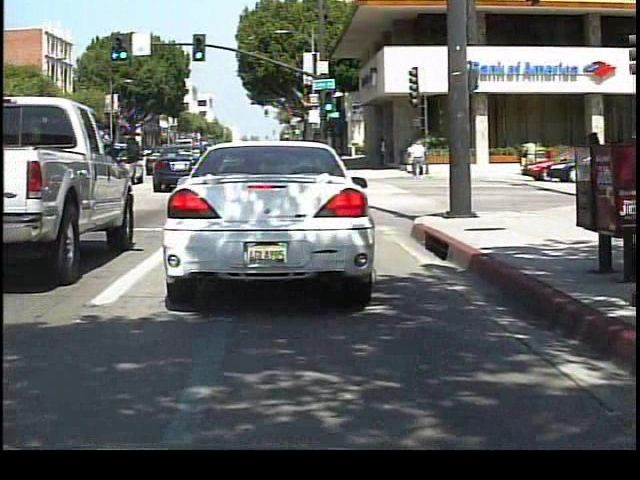person: (518, 135, 540, 177), (407, 136, 427, 179), (444, 136, 463, 177)
